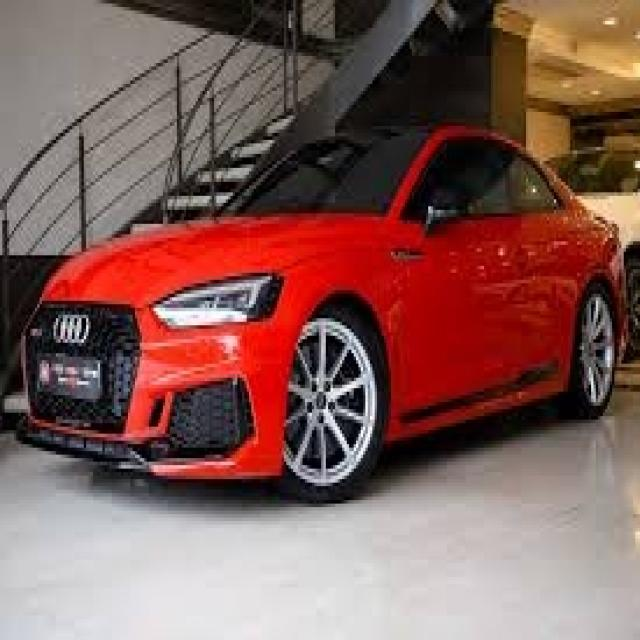red: (30, 114, 628, 477)
